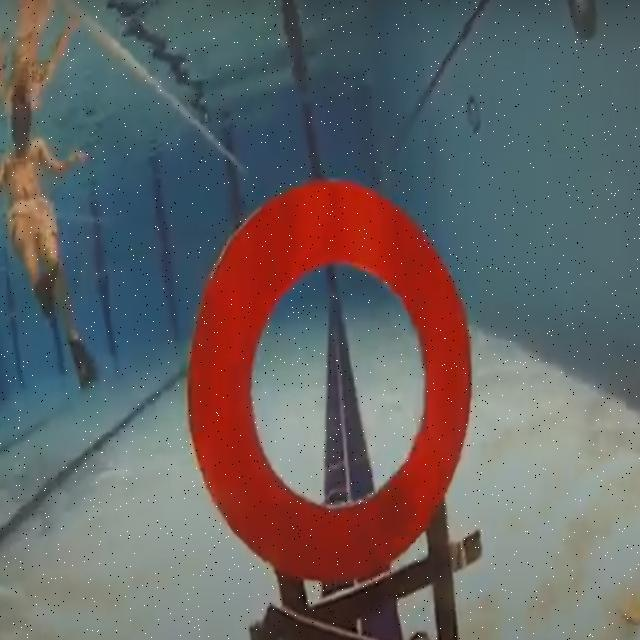Circle: (178, 172, 474, 588)
